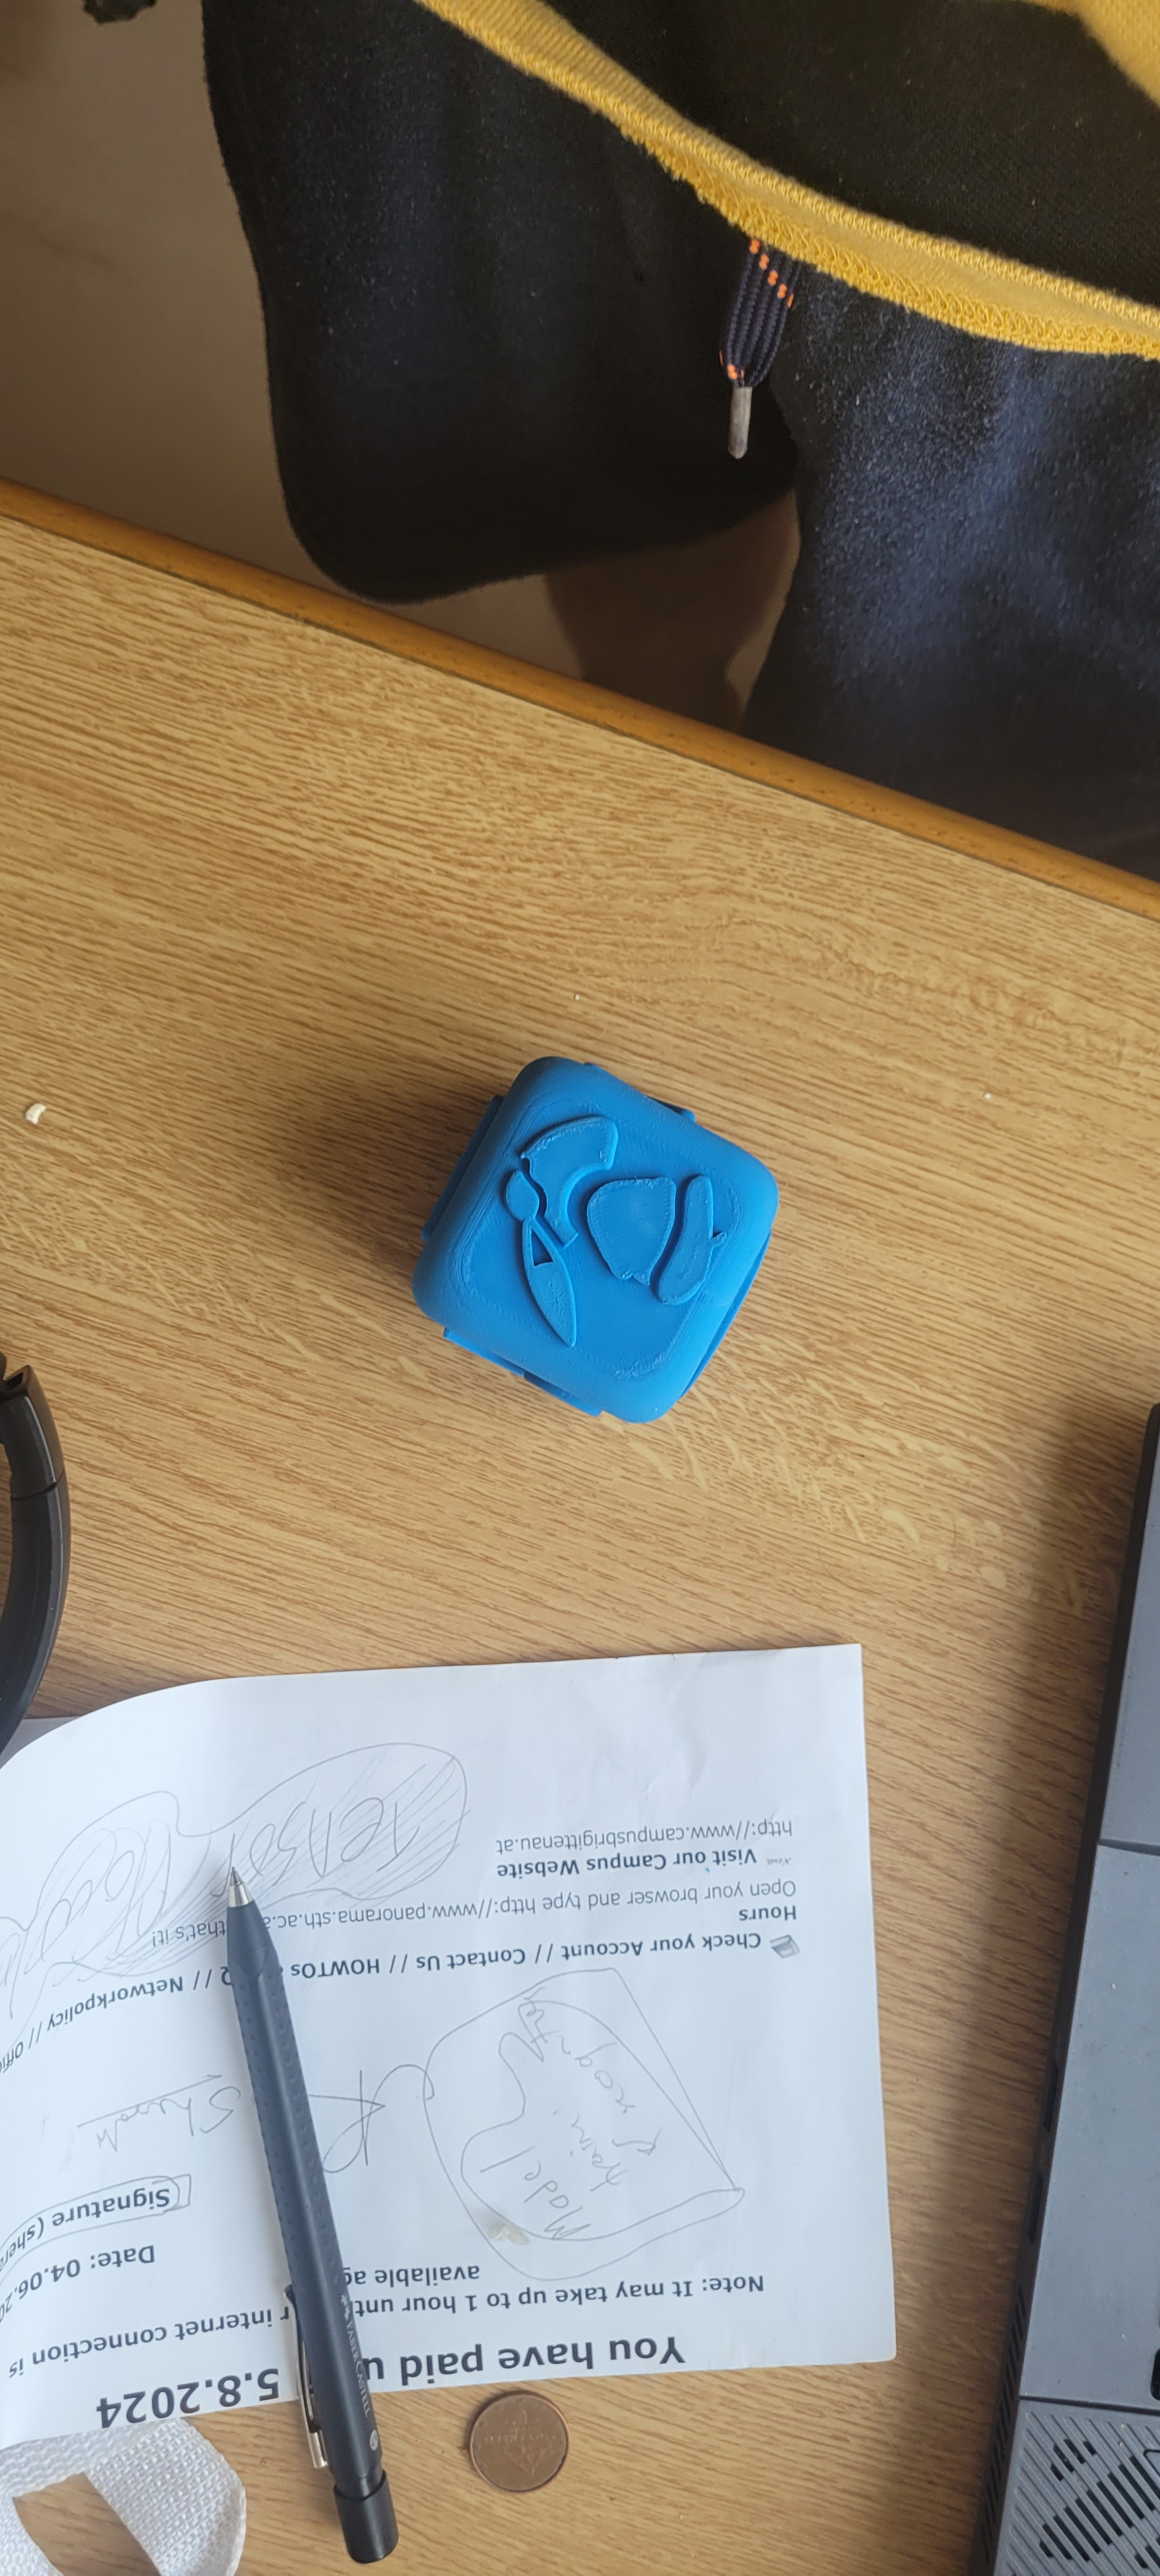Artist_Info: (467, 1043, 741, 1389)
